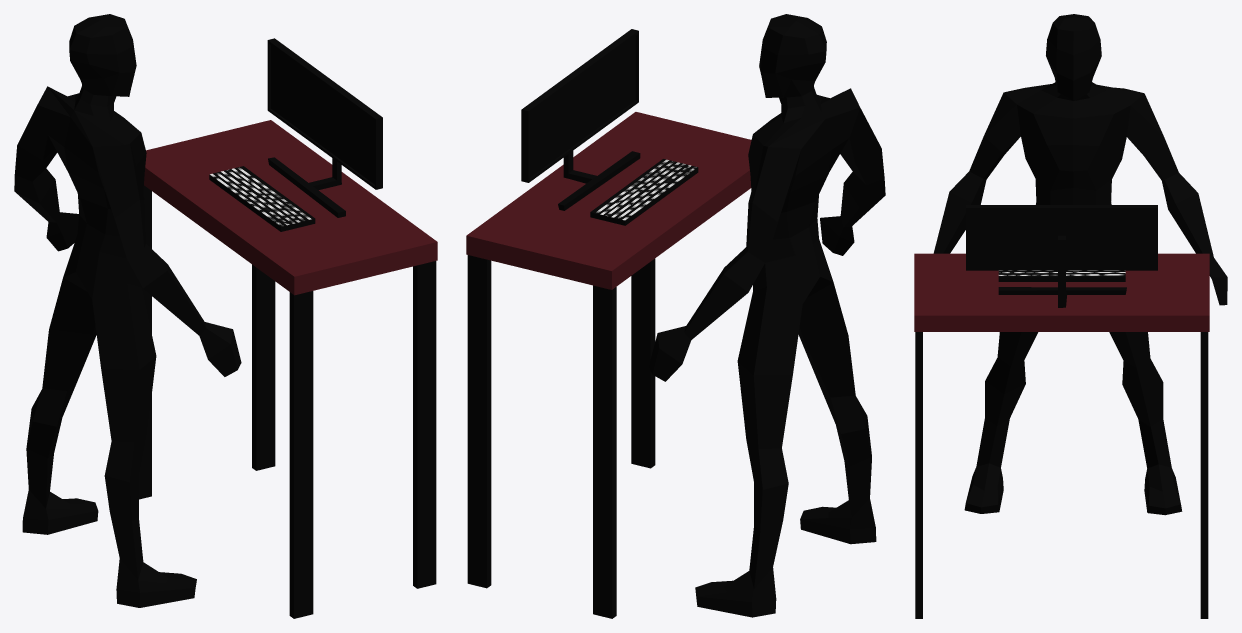
The model's file is bullshitobj.glb.
3 views of the same model, side by side, from view 1: azimuth 30°, elevation 25°; view 2: azimuth 150°, elevation 25°; view 3: azimuth 270°, elevation 25° (orthographic). The views are drawn at different scales.
Parts seen in each view (by area): view 1: BASE_Low Poly Man, Cube.004, Cube.007, Cube.002, Cube.001, Cube, Cube.005, Cube.003; view 2: BASE_Low Poly Man, Cube.004, Cube.007, Cube, Cube.003, Cube.001, Cube.005; view 3: BASE_Low Poly Man, Cube.004, Cube.007, Cube, Cube.001, Cube.005.
Boxes of the visible parts, x1=… form: BASE_Low Poly Man: x1=14, y1=14, x2=241, y2=607; Cube.004: x1=144, y1=120, x2=437, y2=295; Cube.007: x1=267, y1=38, x2=382, y2=217; Cube.002: x1=289, y1=291, x2=313, y2=618; Cube.001: x1=413, y1=261, x2=436, y2=588; Cube: x1=252, y1=264, x2=275, y2=470; Cube.005: x1=209, y1=166, x2=315, y2=231; Cube.003: x1=139, y1=185, x2=151, y2=499; BASE_Low Poly Man: x1=649, y1=14, x2=885, y2=617; Cube.004: x1=466, y1=112, x2=751, y2=289; Cube.007: x1=521, y1=29, x2=640, y2=210; Cube: x1=467, y1=255, x2=491, y2=588; Cube.003: x1=593, y1=285, x2=616, y2=618; Cube.001: x1=631, y1=258, x2=655, y2=468; Cube.005: x1=590, y1=159, x2=698, y2=225; BASE_Low Poly Man: x1=933, y1=14, x2=1227, y2=515; Cube.004: x1=914, y1=253, x2=1209, y2=331; Cube.007: x1=966, y1=205, x2=1157, y2=307; Cube: x1=1200, y1=332, x2=1208, y2=618; Cube.001: x1=915, y1=332, x2=922, y2=618; Cube.005: x1=998, y1=270, x2=1125, y2=281.
Size of what is drawn, in the model's own units: 3.15 by 5.94 by 3.41.
4 materials, 1 textured.
